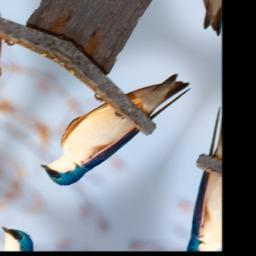Swallow: (35, 37, 195, 219)
